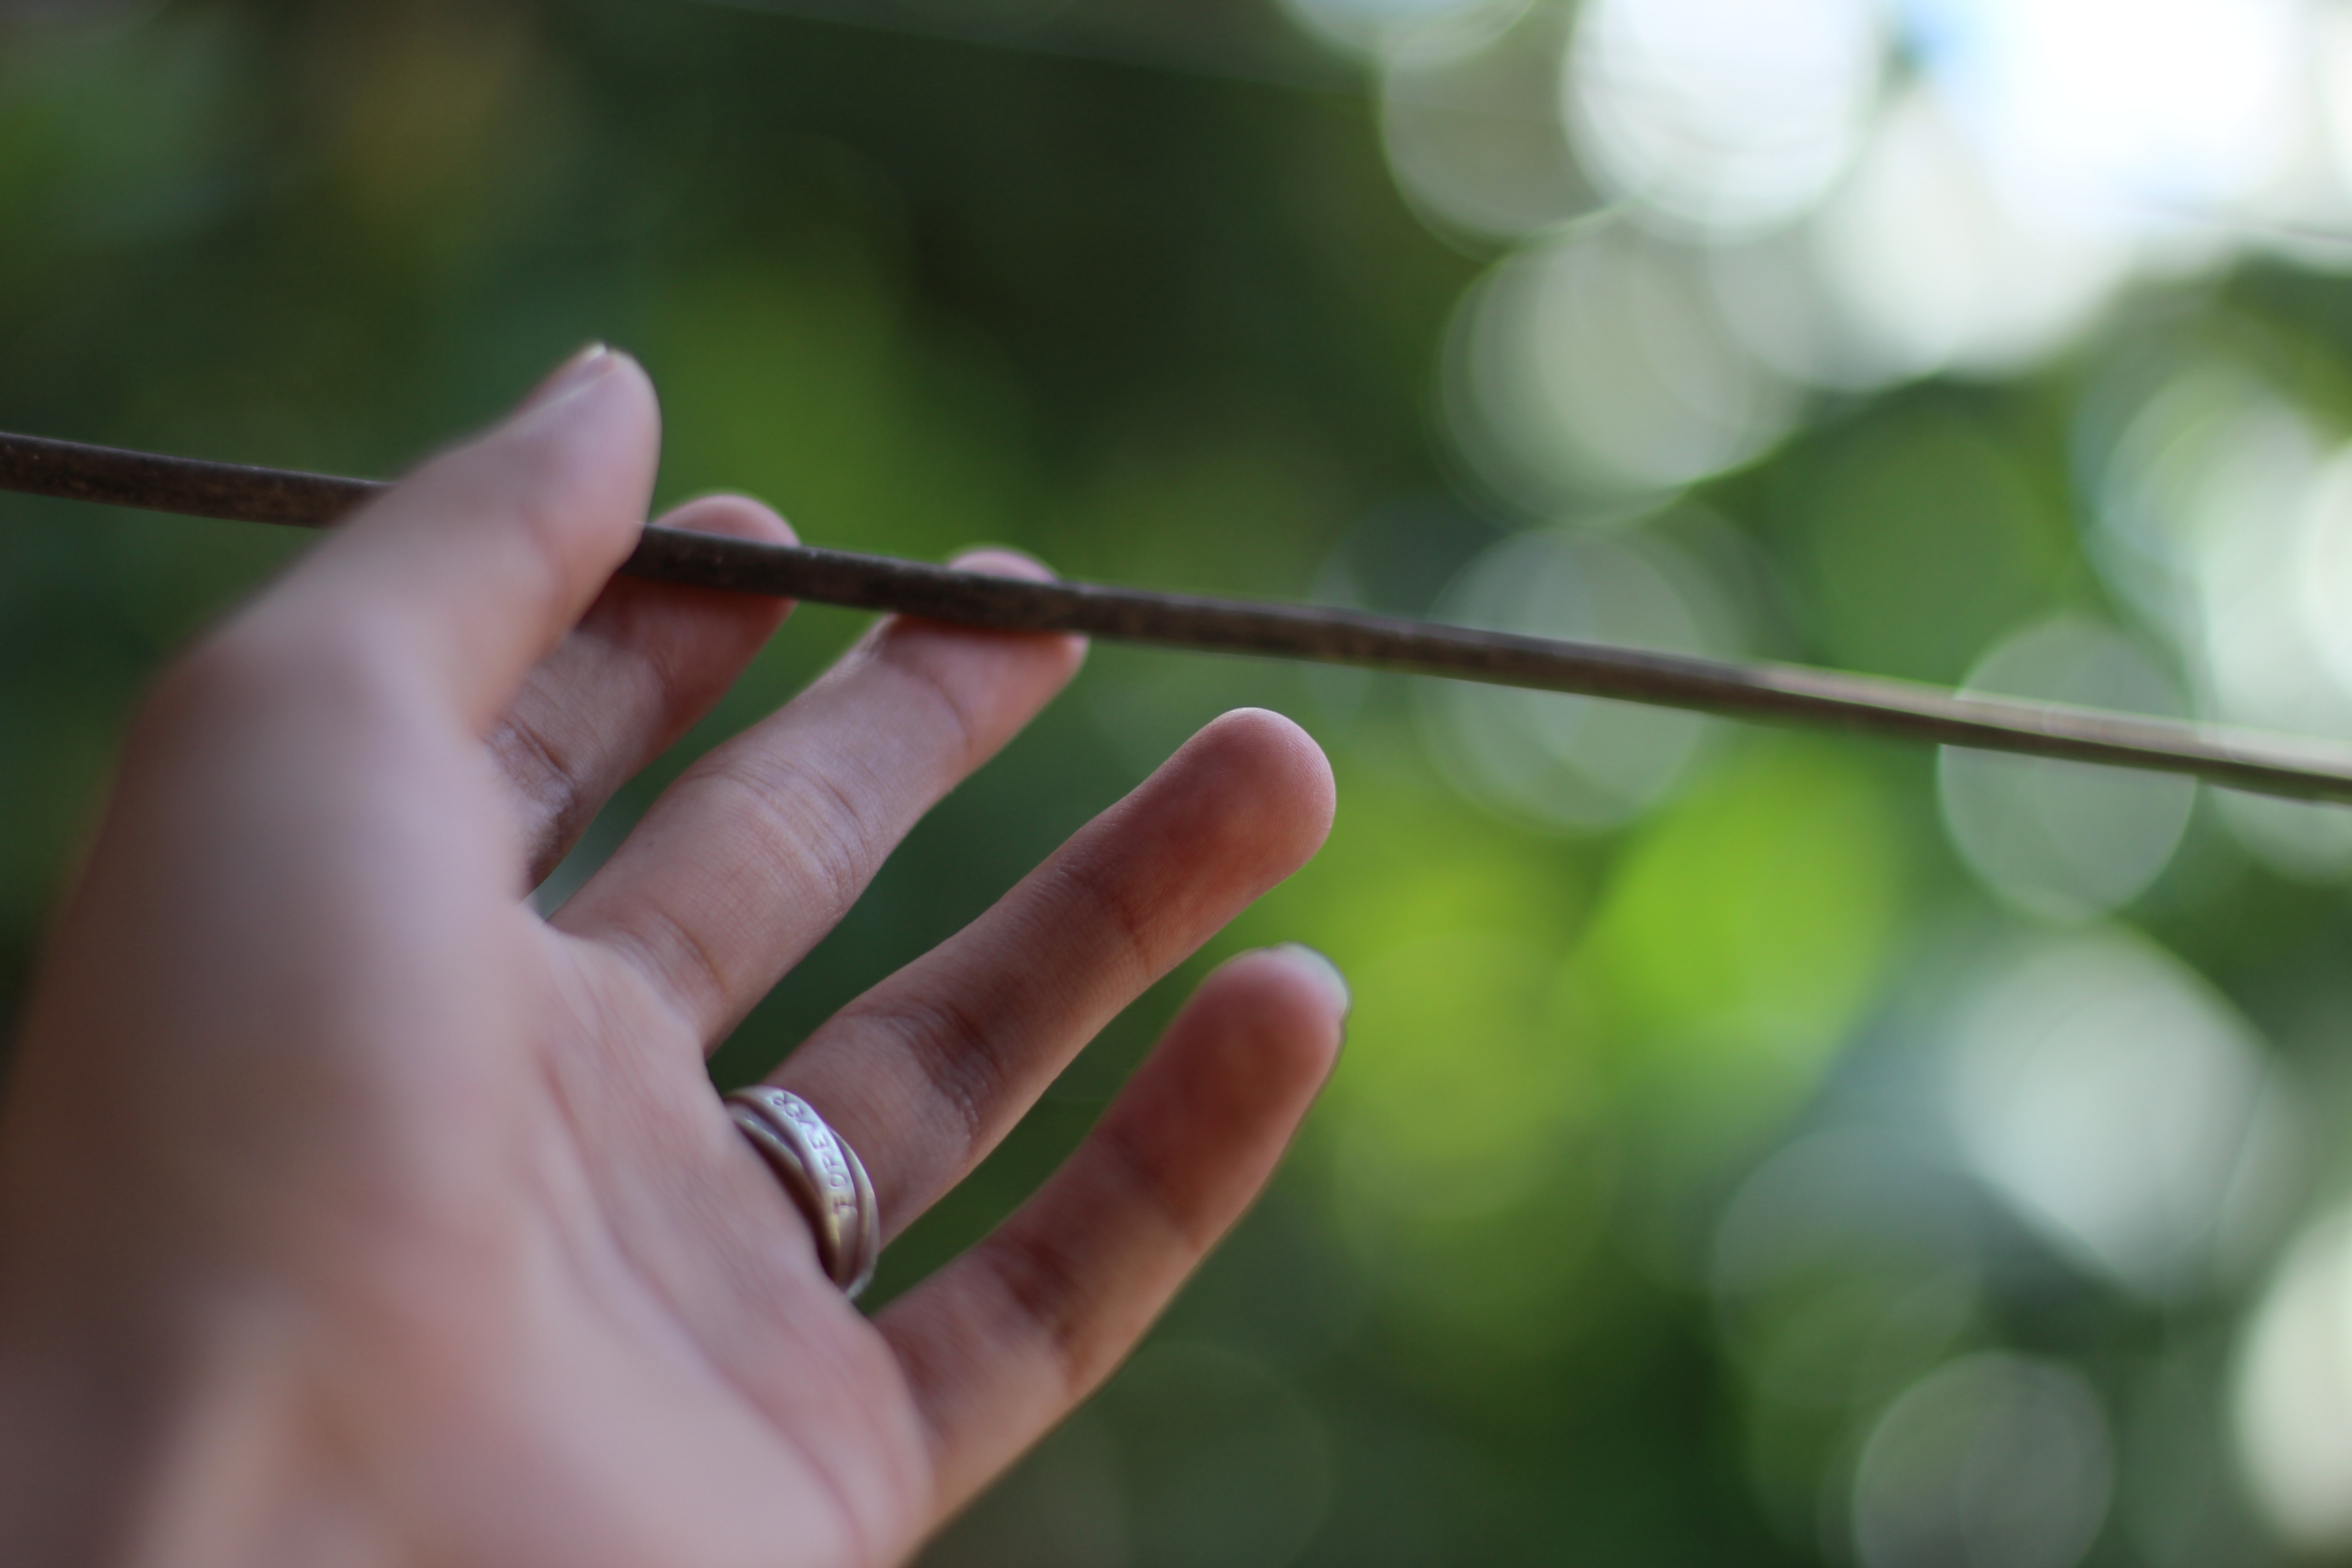non-diseased: (84, 308, 1454, 1568)
